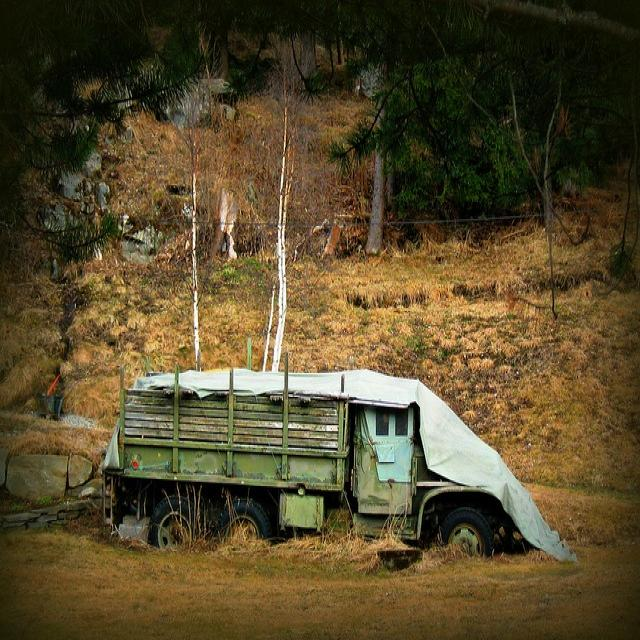truck: (102, 353, 505, 547)
